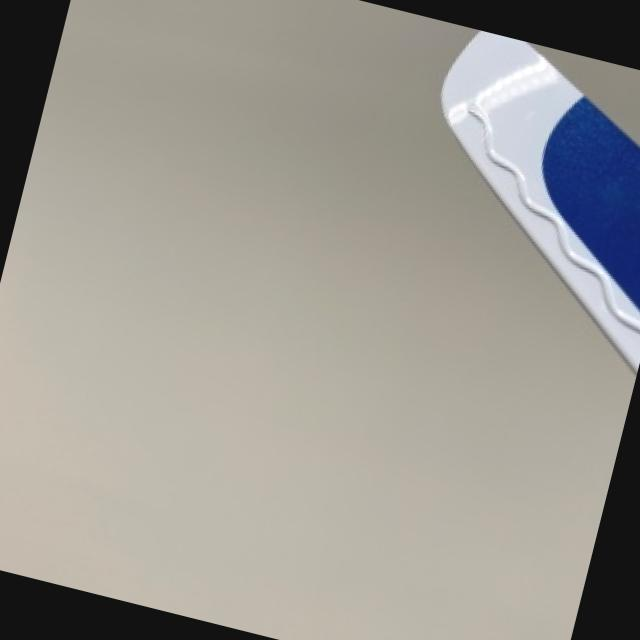healthy: (446, 30, 640, 366)
